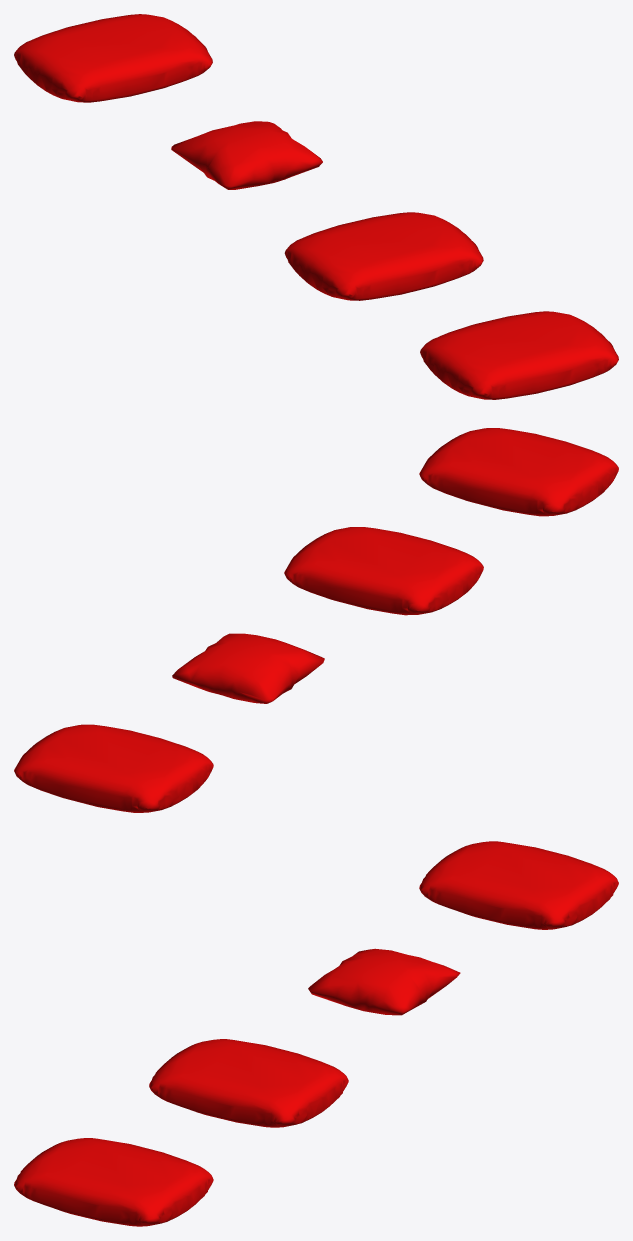
File: RoboTHOR_pillows_grp.fbx
3 renders of one model, top to bottom at view 1: azimuth 30°, elevation 25°; view 2: azimuth 150°, elevation 25°; view 3: azimuth 330°, elevation 25°, orthographic.
Parts seen in each view (by area): view 1: thorkea_pillow_tradaster, thorkea_pillow_dvala, thorkea_pillow_sanglarka_1, thorkea_pillow_sanglarka_2; view 2: thorkea_pillow_sanglarka_1, thorkea_pillow_tradaster, thorkea_pillow_dvala, thorkea_pillow_sanglarka_2; view 3: thorkea_pillow_dvala, thorkea_pillow_sanglarka_1, thorkea_pillow_tradaster, thorkea_pillow_sanglarka_2.
Part boxes in pixels (bbox=[...]): thorkea_pillow_tradaster: bbox=[14, 14, 212, 102]; thorkea_pillow_dvala: bbox=[420, 311, 618, 399]; thorkea_pillow_sanglarka_1: bbox=[284, 212, 483, 300]; thorkea_pillow_sanglarka_2: bbox=[171, 121, 322, 189]; thorkea_pillow_sanglarka_1: bbox=[284, 527, 483, 615]; thorkea_pillow_tradaster: bbox=[14, 724, 213, 812]; thorkea_pillow_dvala: bbox=[419, 428, 618, 516]; thorkea_pillow_sanglarka_2: bbox=[172, 633, 324, 703]; thorkea_pillow_dvala: bbox=[14, 1138, 213, 1226]; thorkea_pillow_sanglarka_1: bbox=[149, 1039, 348, 1127]; thorkea_pillow_tradaster: bbox=[419, 841, 618, 929]; thorkea_pillow_sanglarka_2: bbox=[308, 948, 460, 1015].
Size of the model in its own units: 67.31 by 15.67 by 351.
